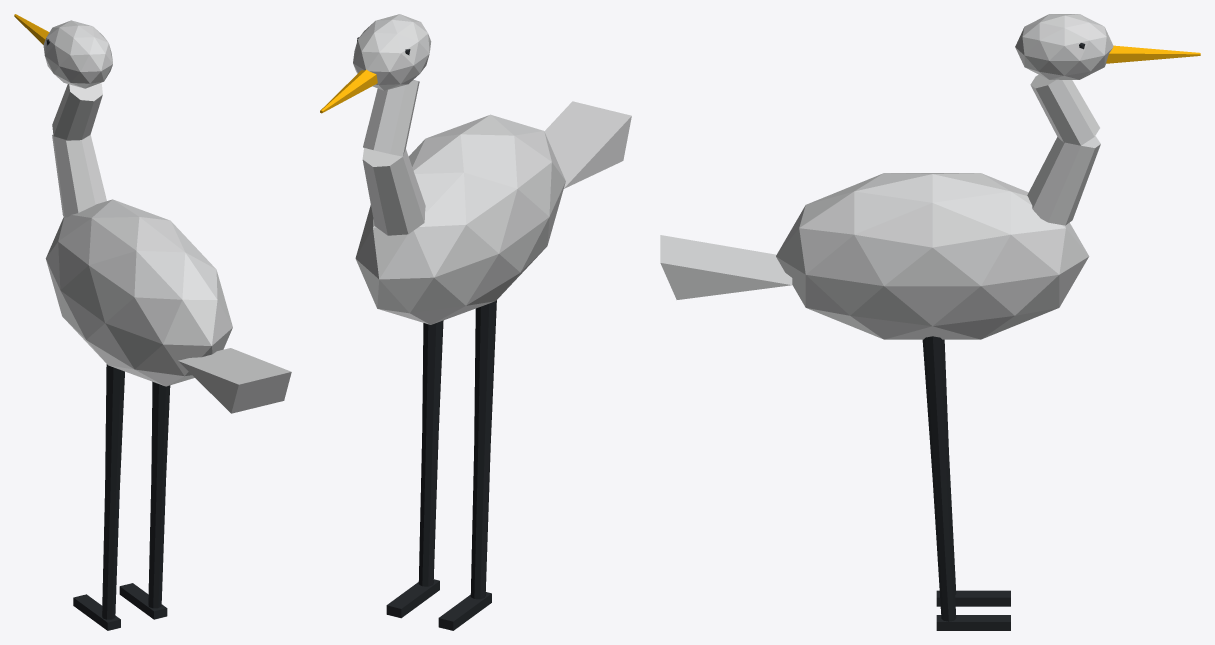
Rendered from st_egret.glb.
The picture shows the model from 3 angles, left to right: view 1: azimuth 30°, elevation 25°; view 2: azimuth 150°, elevation 25°; view 3: azimuth 270°, elevation 25°; orthographic projection. The views are drawn at different scales.
Parts seen in each view (by area): view 1: body, leg_fr, leg_fl, head; view 2: body, leg_fr, leg_fl, head; view 3: body, leg_fl, head, leg_fr.
Part boxes in pixels (left/top/right/bottom): body: left=45, top=83, right=291, bottom=413; leg_fr: left=73, top=364, right=124, bottom=630; leg_fl: left=119, top=381, right=170, bottom=619; head: left=14, top=14, right=112, bottom=88; body: left=355, top=80, right=631, bottom=324; leg_fr: left=438, top=300, right=496, bottom=630; leg_fl: left=386, top=320, right=443, bottom=618; head: left=320, top=14, right=431, bottom=113; body: left=660, top=74, right=1100, bottom=339; leg_fl: left=922, top=336, right=1010, bottom=630; head: left=1015, top=14, right=1200, bottom=79; leg_fr: left=936, top=339, right=1010, bottom=606.
Bounding box in the file's own units: 17.12 × 80.2 × 65.5.
